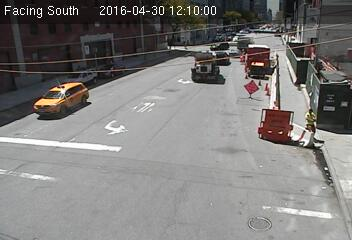neg: (194, 73, 215, 100), (63, 99, 81, 123), (250, 63, 261, 77)
pos: (298, 107, 321, 137), (179, 38, 191, 54)
